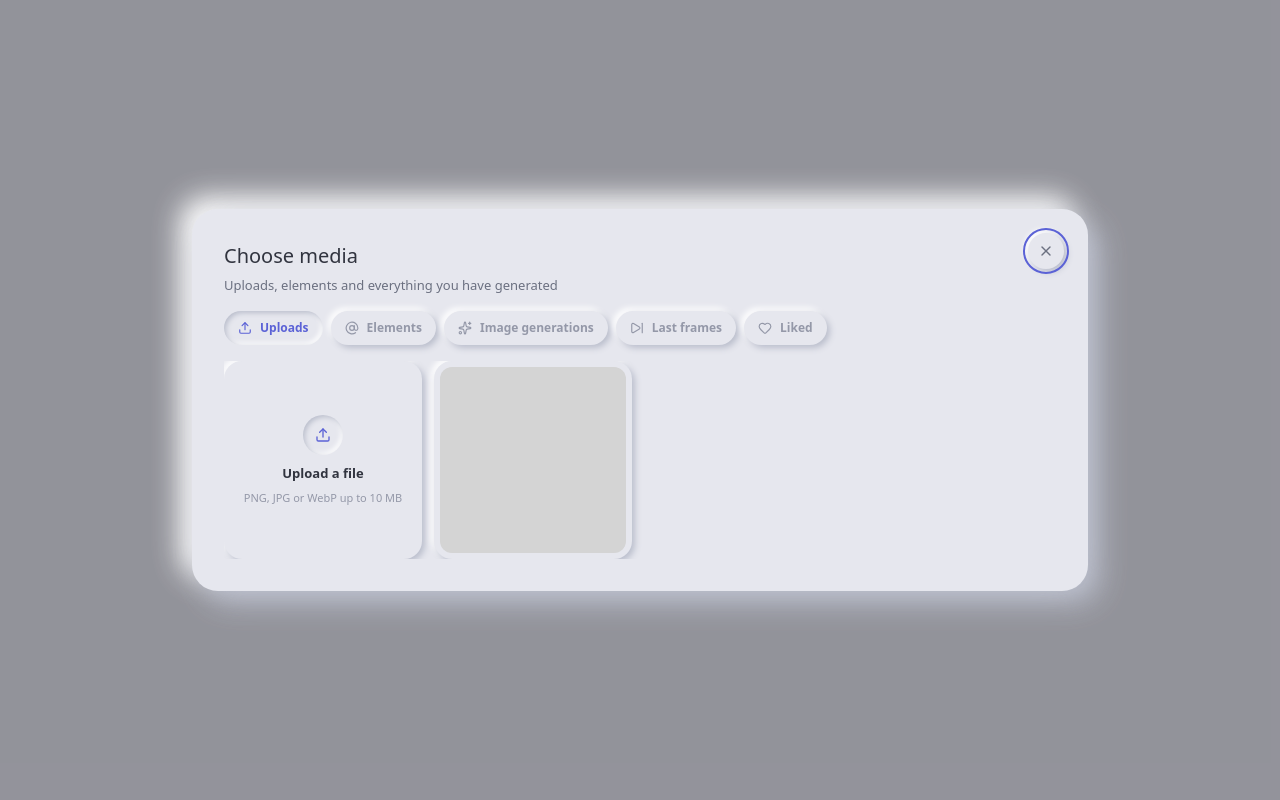
Test case: MediaPicker › keeps the element form open until an image is attached
This screenshot has width=1280, height=800.
Step 1. Click the tab "Elements" → (383, 328), box [331,311,436,345]
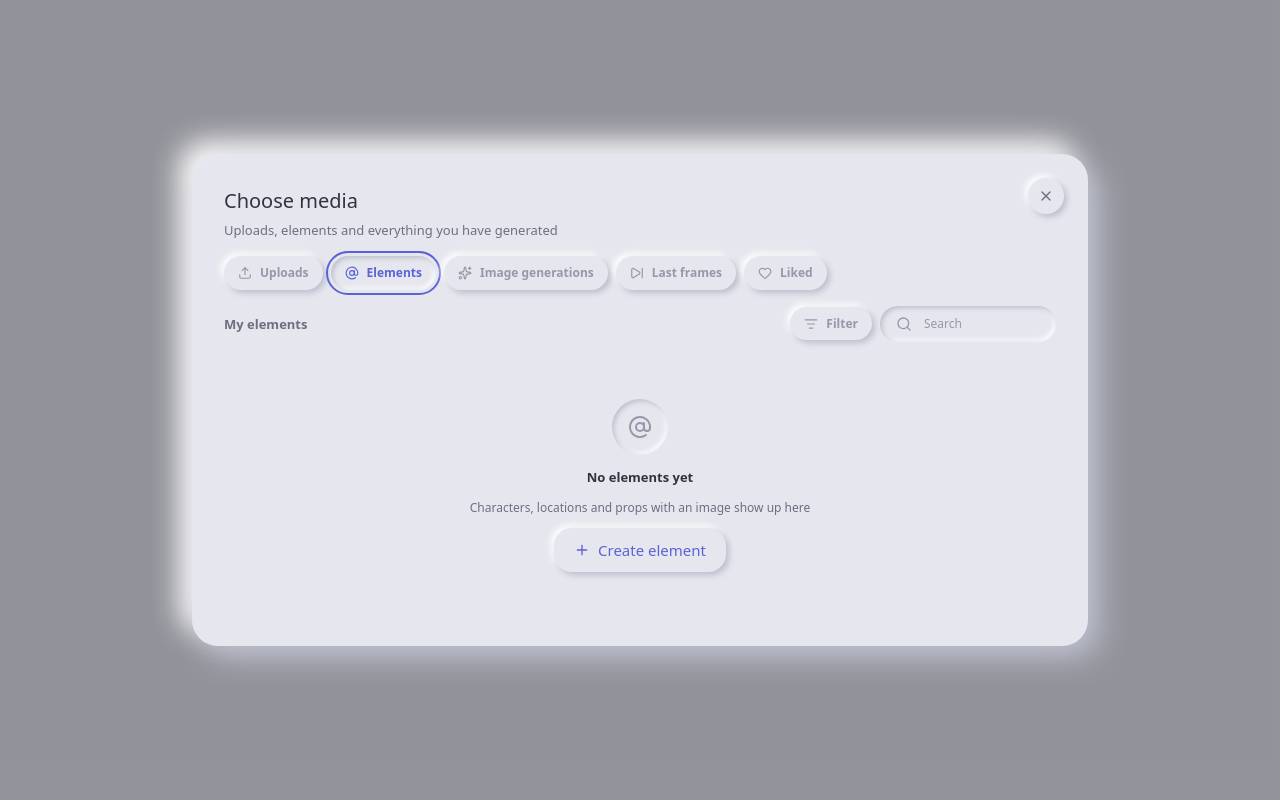
Step 2. Click the button "Create element" → (640, 550), box [554,528,726,572]
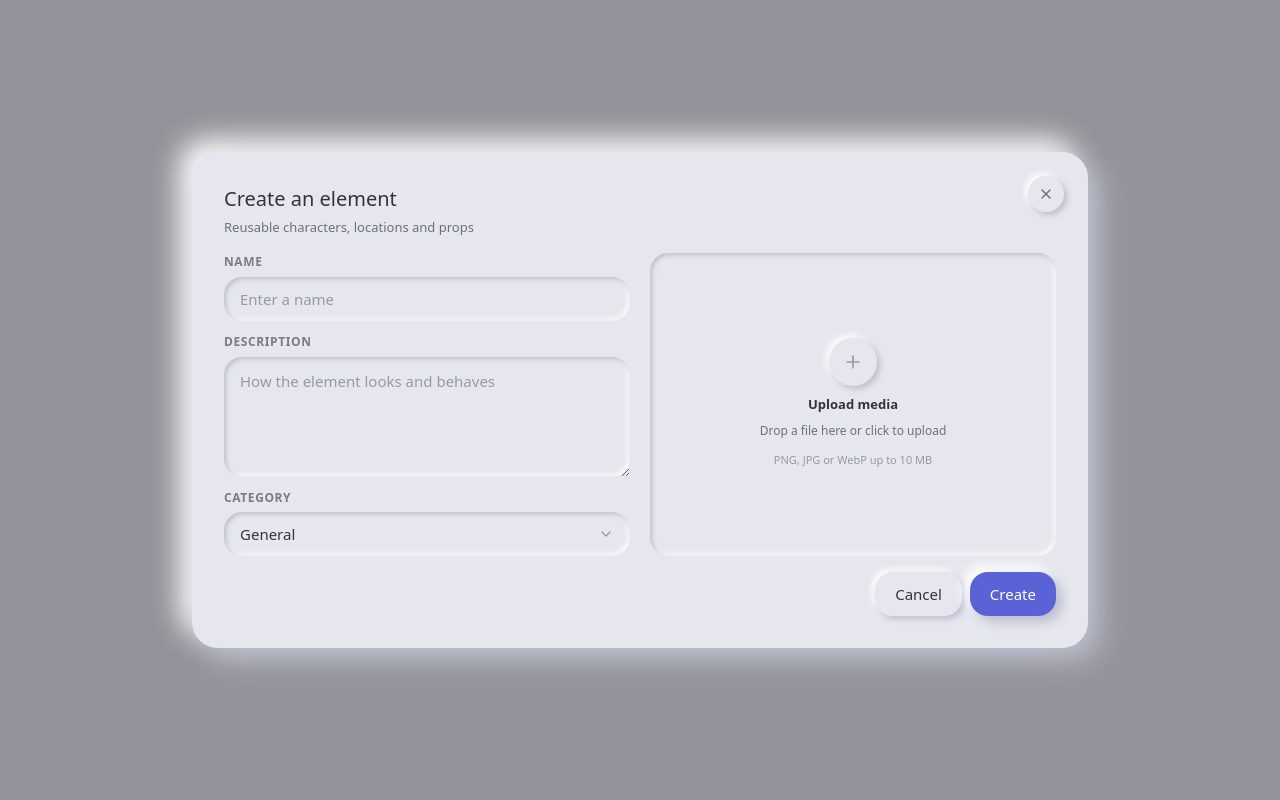
Step 3. Type "Hero" into the field labelled "Name" → (427, 299), box [224,277,630,321]
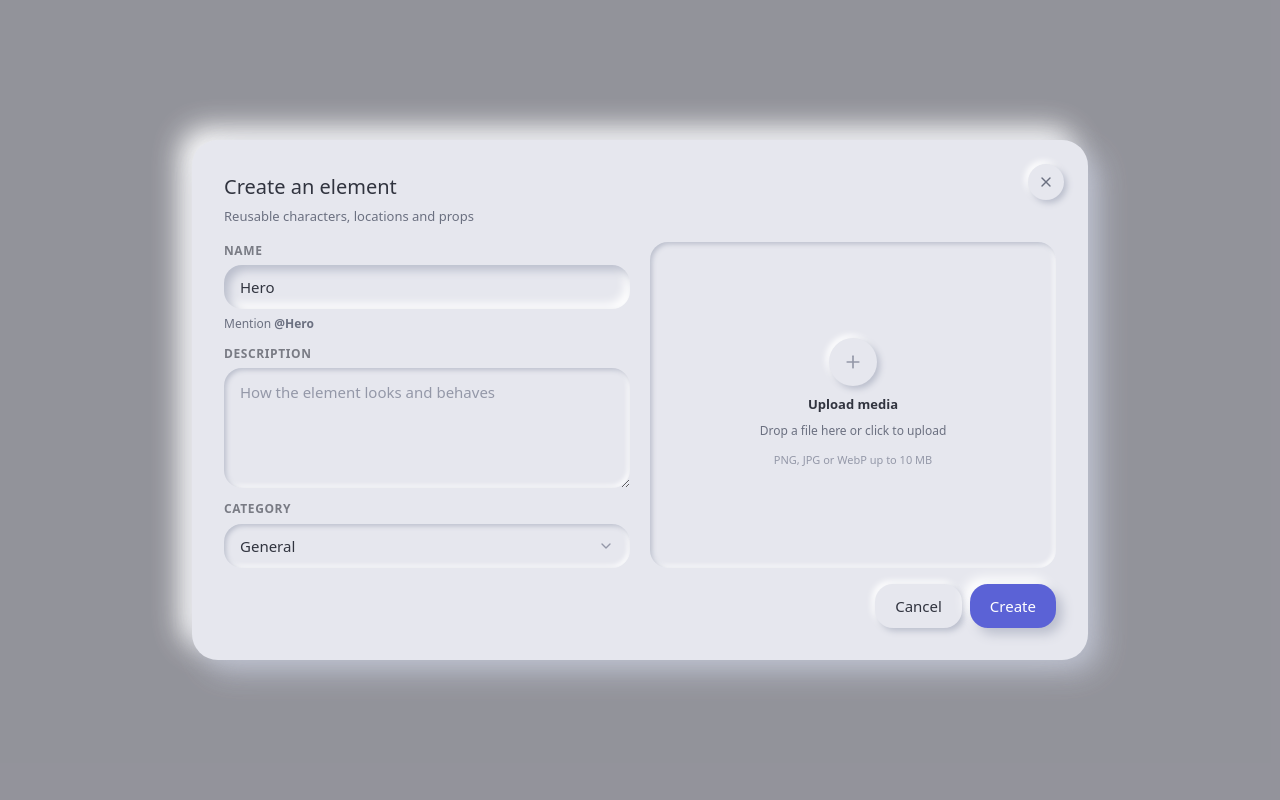
Step 4. Click the button "Create" → (1013, 606), box [970,584,1056,628]
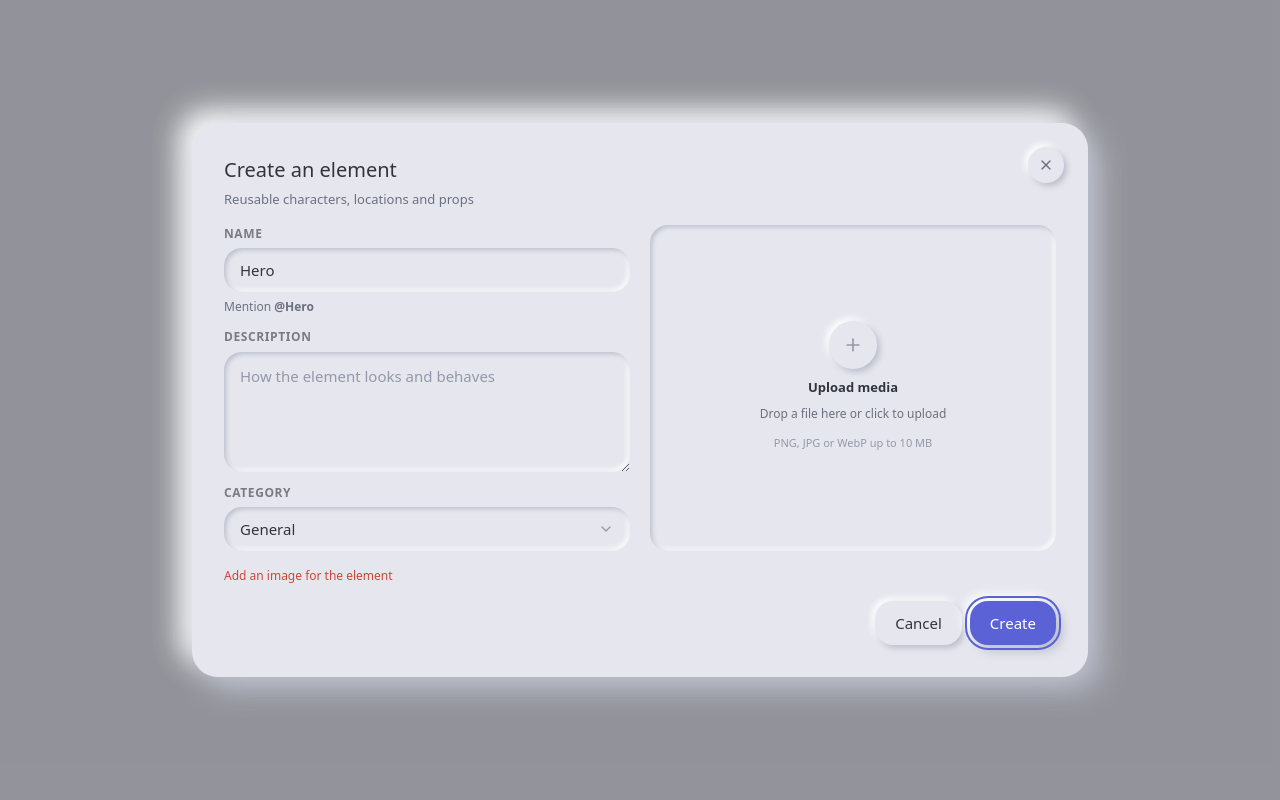
expect the message shows "Add an image": met, box [224,567,393,584]
